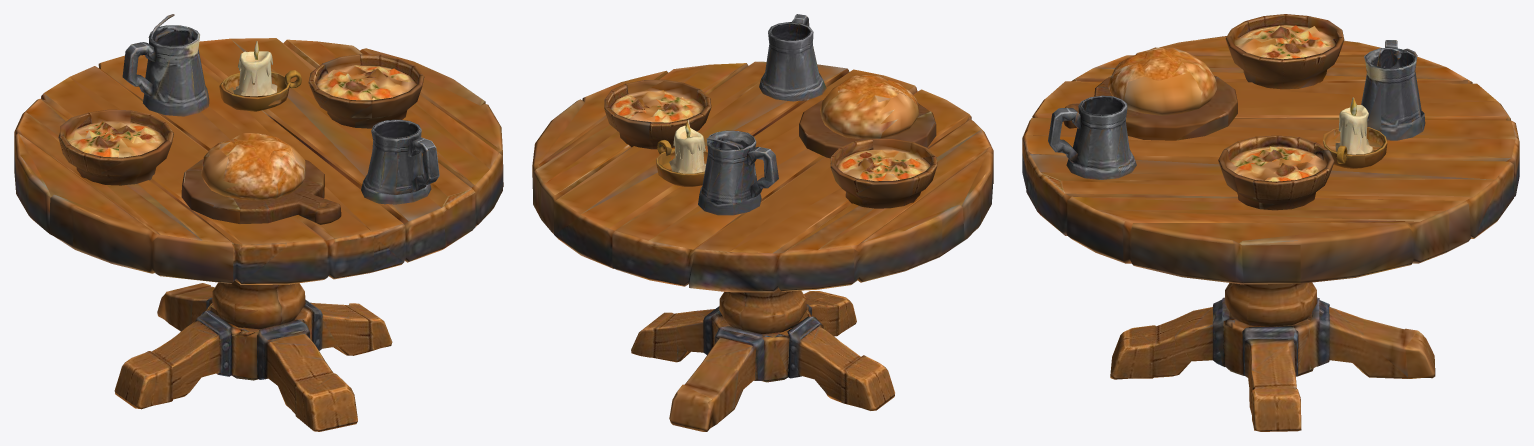
Rendered from dressed_round_table.glb.
3 views of the same model, side by side, from view 1: azimuth 30°, elevation 25°; view 2: azimuth 150°, elevation 25°; view 3: azimuth 270°, elevation 25° (orthographic). The views are drawn at different scales.
Parts seen in each view (by area): view 1: kit-dressed-round-table-1; view 2: kit-dressed-round-table-1; view 3: kit-dressed-round-table-1.
Part boxes in pixels (x1,y1,x2,y2): kit-dressed-round-table-1: [14, 14, 503, 431]; kit-dressed-round-table-1: [532, 14, 993, 431]; kit-dressed-round-table-1: [1022, 14, 1519, 431].
Bounding box in the file's own units: 1.2 × 0.8218 × 1.2.
1 material, 1 textured.
